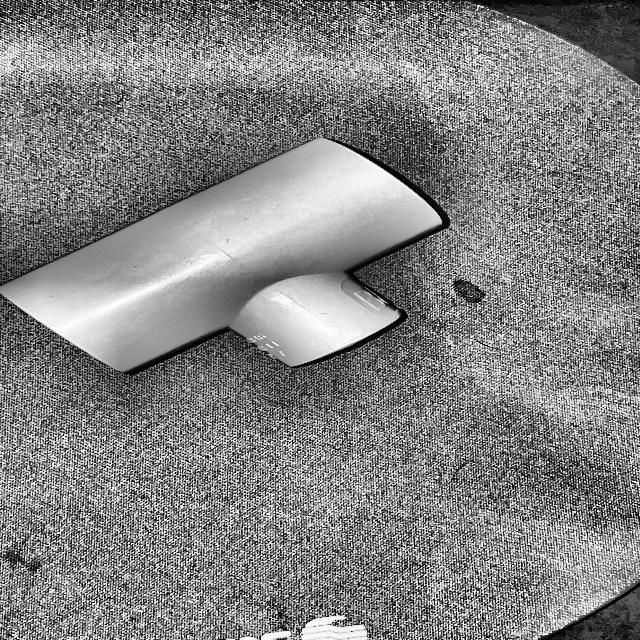EQUALTEE: (0, 139, 451, 377), (0, 139, 450, 377)
